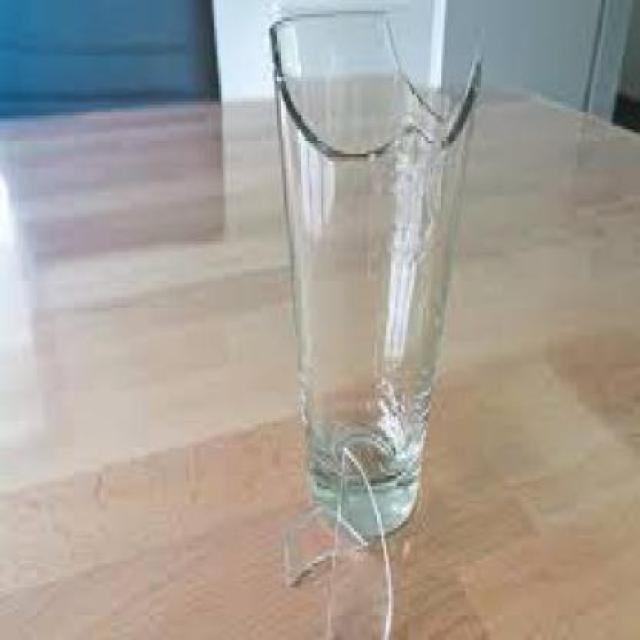kaca: (268, 8, 480, 538), (323, 445, 395, 637), (280, 505, 363, 592)
